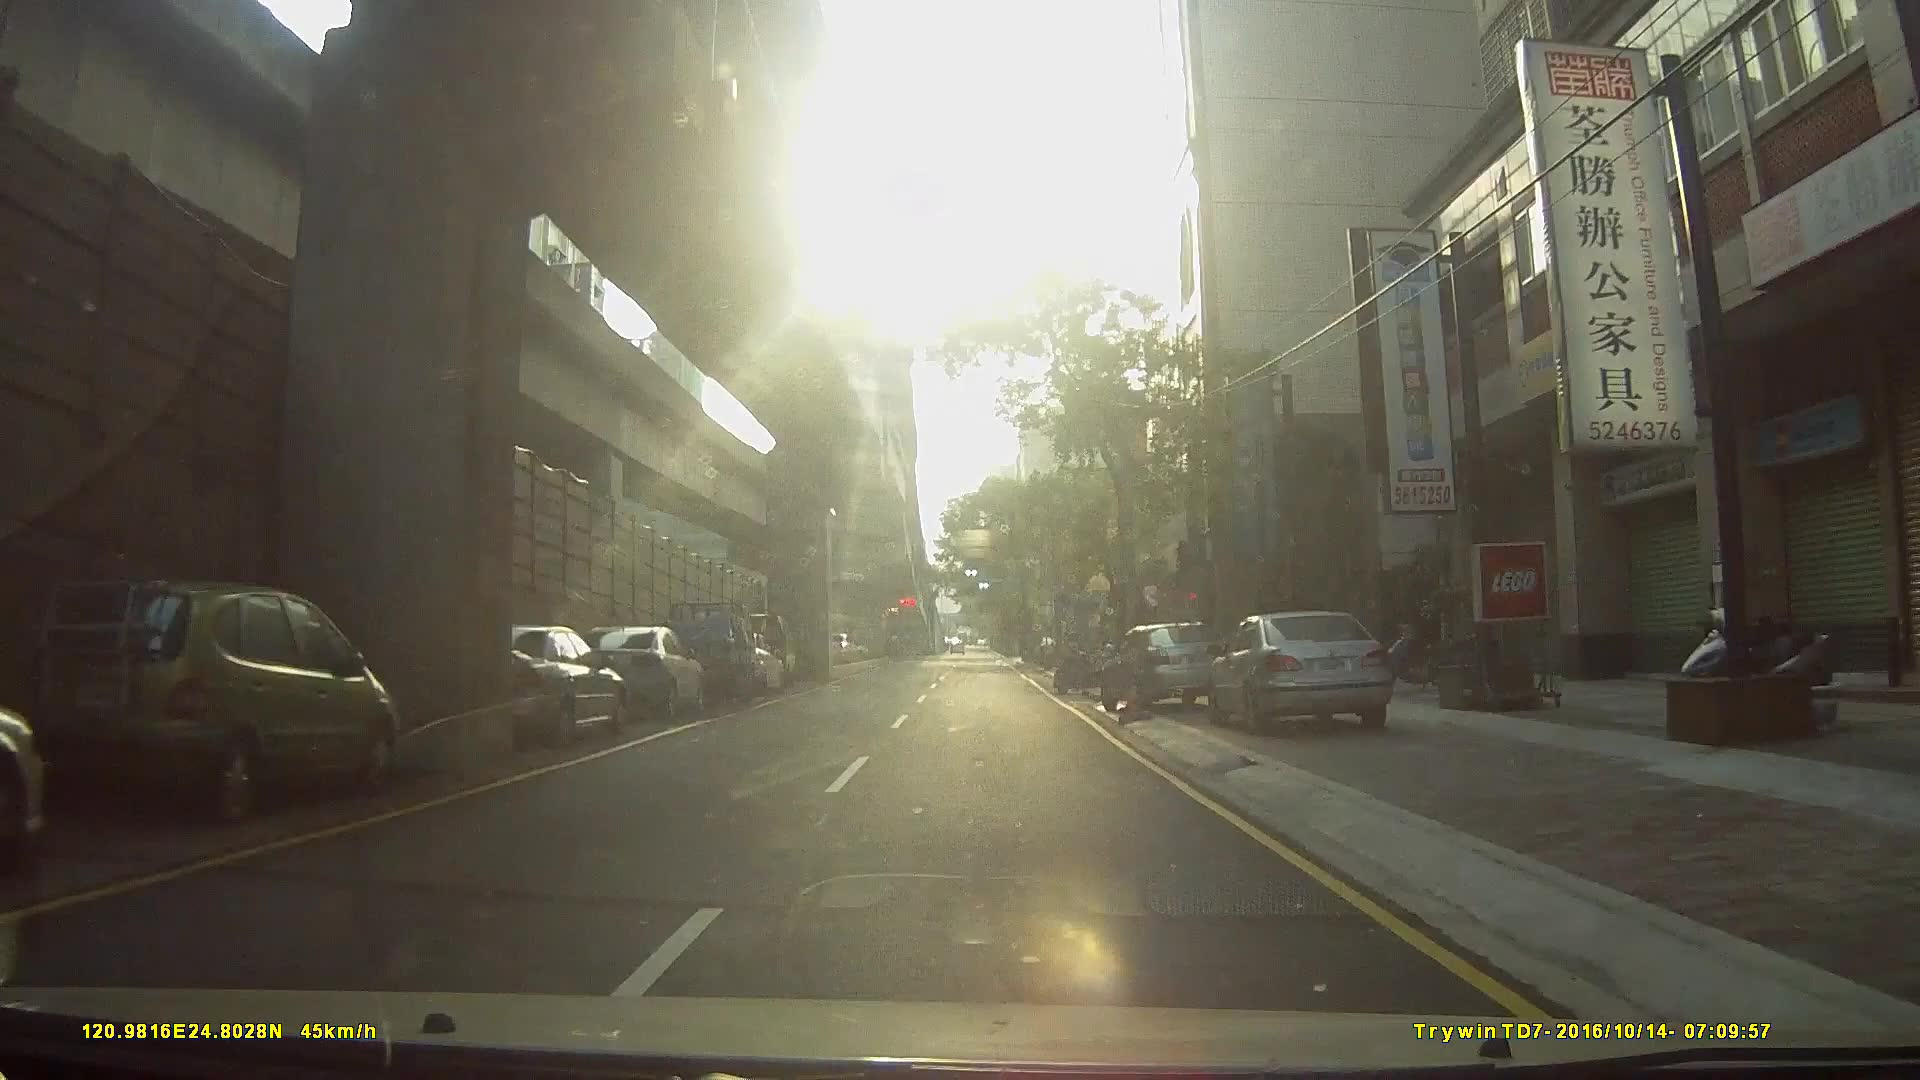rider: (1052, 628, 1107, 693)
vehicle: (0, 577, 387, 835), (1207, 609, 1403, 732), (448, 621, 626, 755), (1097, 618, 1235, 716), (565, 624, 705, 719), (1, 678, 64, 881), (646, 598, 758, 708)
